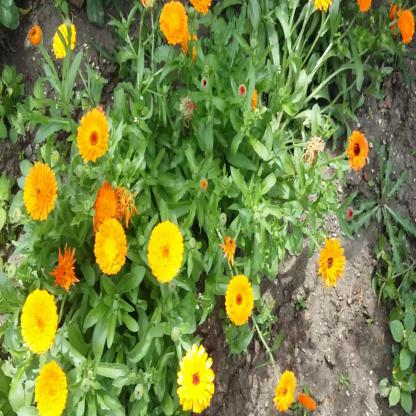marigold: (177, 346, 215, 410), (147, 222, 182, 284), (22, 292, 56, 353), (24, 163, 57, 219), (94, 217, 125, 274), (35, 362, 65, 413), (76, 111, 105, 162), (159, 0, 189, 46), (225, 276, 253, 324), (319, 238, 345, 288), (52, 22, 76, 59), (345, 129, 368, 167), (276, 370, 297, 408), (96, 187, 118, 221)
